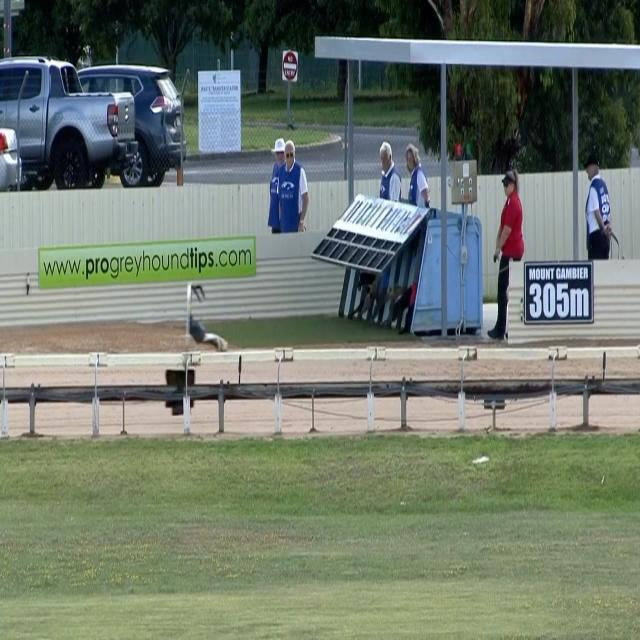rail: (0, 376, 639, 405)
